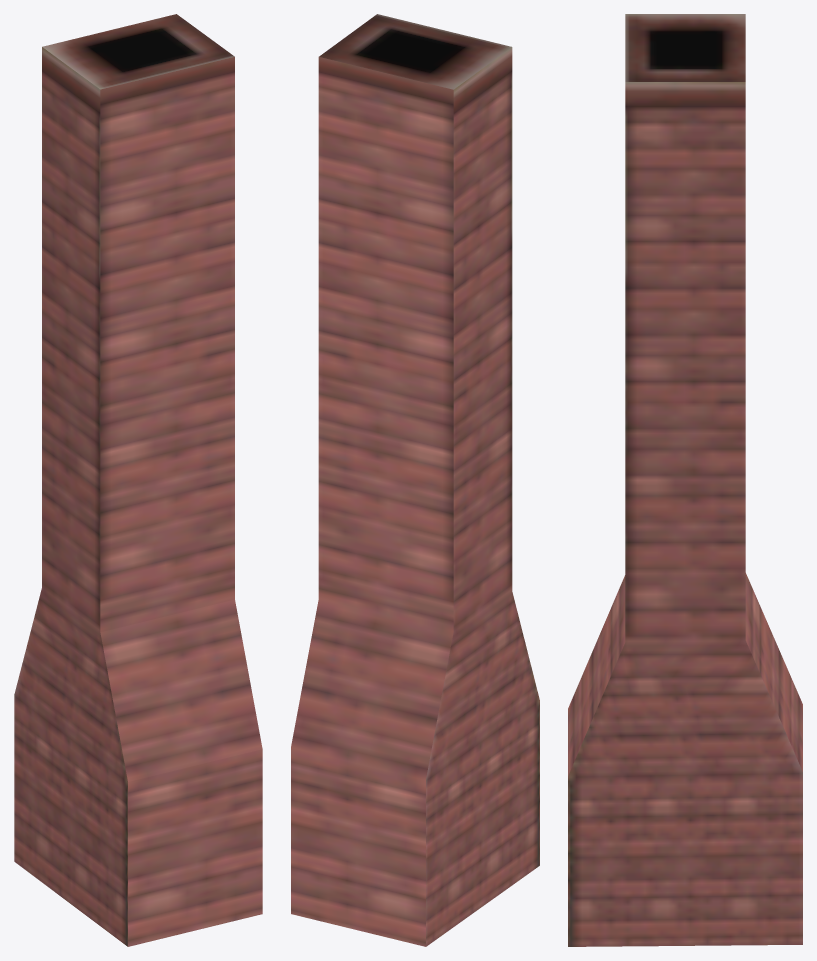
Rendered from CHIMNEY05.glb.
3 views of the same model, side by side, from view 1: azimuth 30°, elevation 25°; view 2: azimuth 150°, elevation 25°; view 3: azimuth 270°, elevation 25° (orthographic). The views are drawn at different scales.
Visible parts, largest first — view 1: CHIMNEY05; view 2: CHIMNEY05; view 3: CHIMNEY05.
Part boxes in pixels (<box>): CHIMNEY05: <box>14,14,262,946</box>; CHIMNEY05: <box>291,14,539,946</box>; CHIMNEY05: <box>568,14,802,946</box>.
Size of the model in its own units: 202 by 1203 by 296.
Materials: 1 (1 with a texture image).
